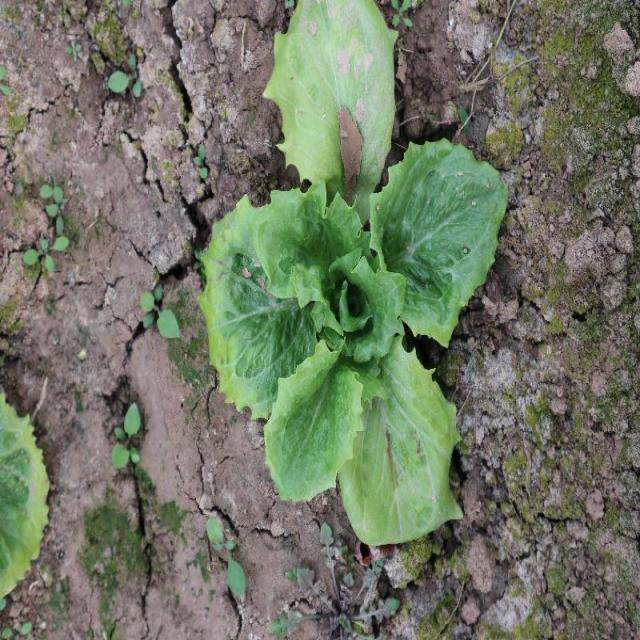crop: (197, 138, 509, 544)
